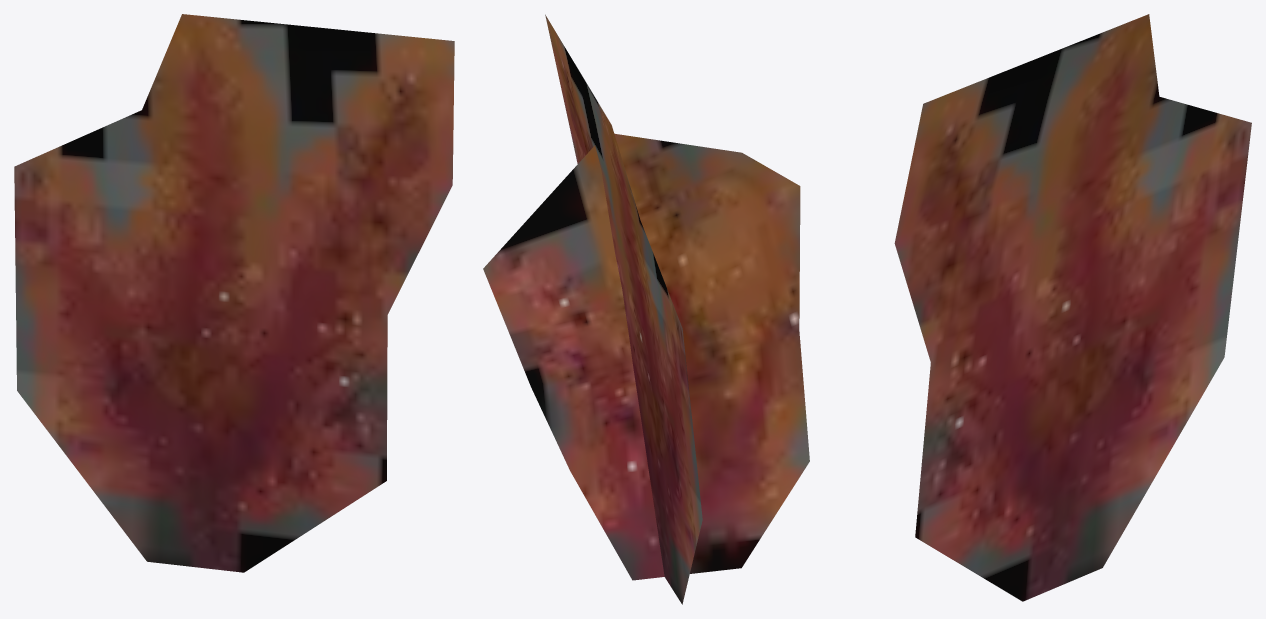
The model's file is Seaweed_E5-transformed.glb.
3 views of the same model, side by side, from view 1: azimuth 30°, elevation 25°; view 2: azimuth 150°, elevation 25°; view 3: azimuth 270°, elevation 25° (orthographic). The views are drawn at different scales.
Visible parts, largest first — view 1: Seaweed_E5; view 2: Seaweed_E5; view 3: Seaweed_E5.
Part boxes in pixels (<box>): Seaweed_E5: <box>14,14,454,572</box>; Seaweed_E5: <box>483,14,809,604</box>; Seaweed_E5: <box>894,14,1251,601</box>.
Bounding box in the file's own units: 0.2859 × 0.4706 × 0.2995.
Materials: 1 (1 with a texture image).
